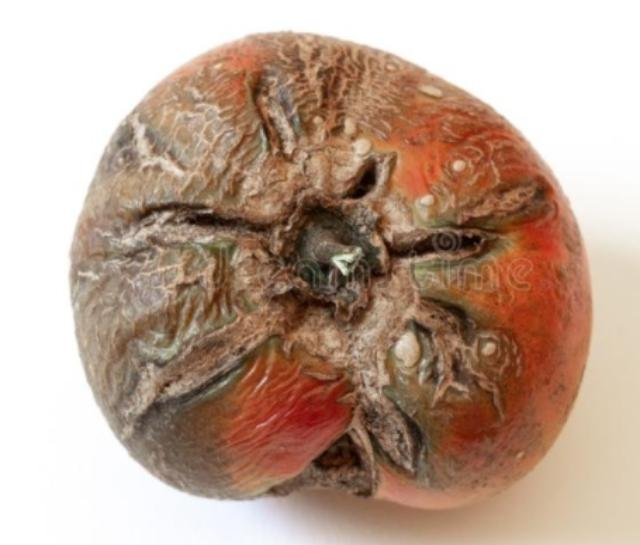defect: (61, 21, 598, 516)
